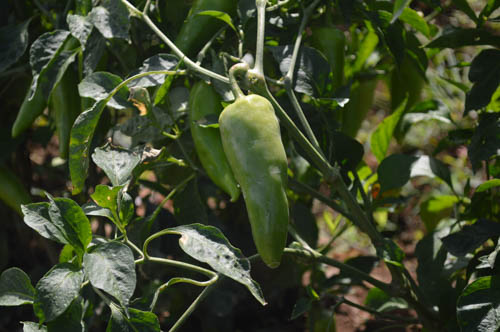ChiliPepper: (222, 97, 290, 268), (186, 81, 240, 203), (52, 75, 88, 159), (9, 75, 51, 146), (180, 4, 227, 60), (315, 28, 349, 92)
